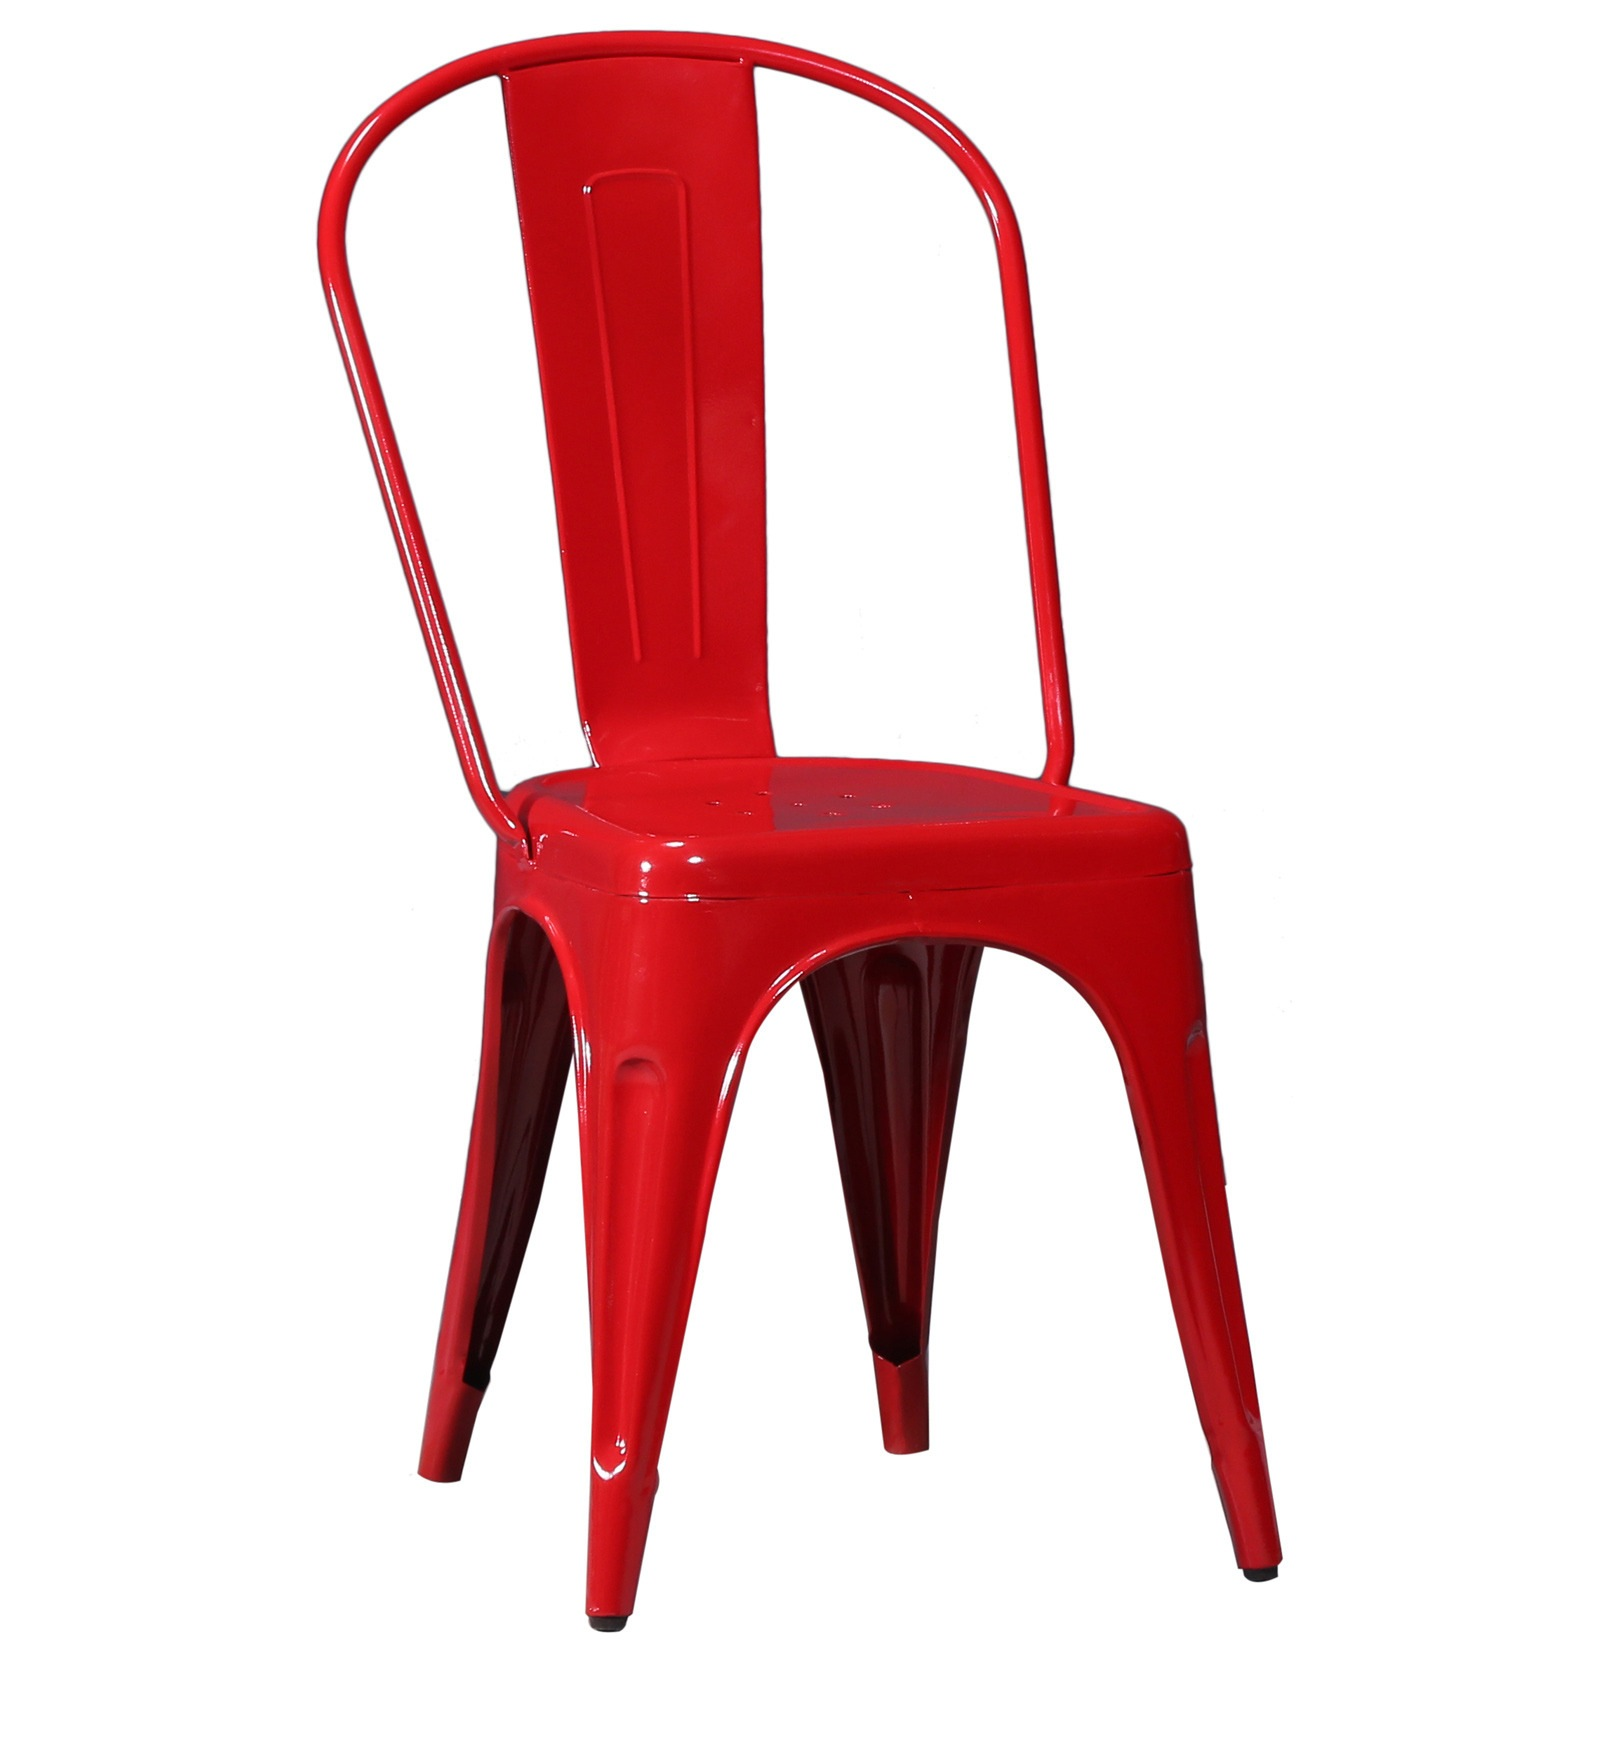Ekati Metal Chair in Red Color by Bohemiana: (257, 12, 1372, 1653)
